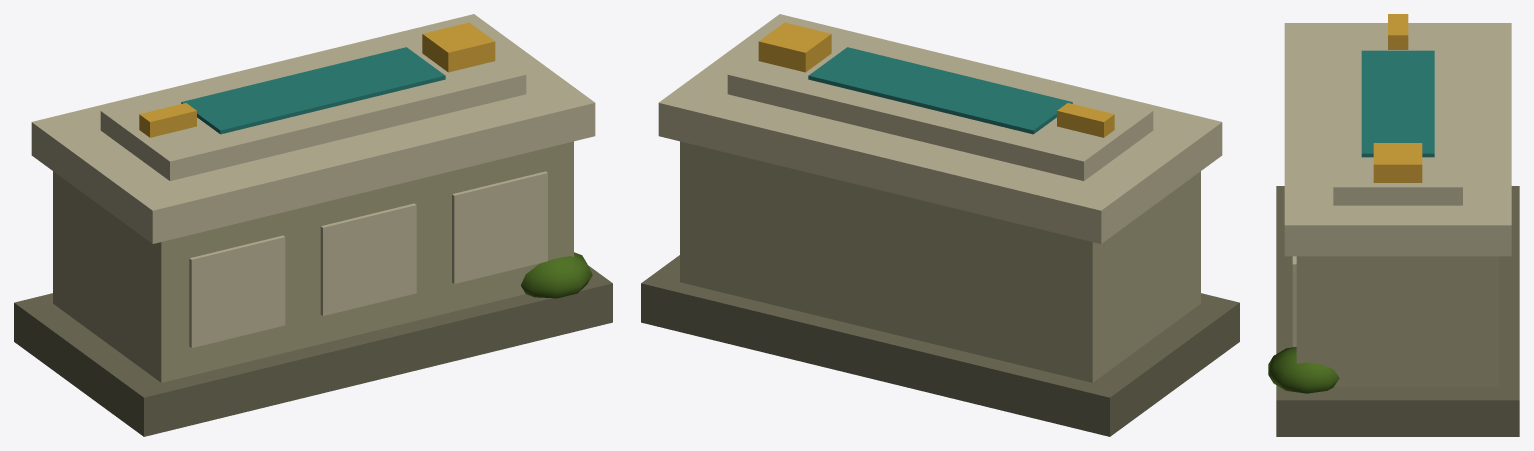
The model's file is jt_sarcophagus.glb.
3 views of the same model, side by side, from view 1: azimuth 30°, elevation 25°; view 2: azimuth 150°, elevation 25°; view 3: azimuth 270°, elevation 25° (orthographic). The views are drawn at different scales.
Visible parts, largest first — view 1: jt_sarcophagus; view 2: jt_sarcophagus; view 3: jt_sarcophagus.
Part boxes in pixels (x1,y1,x2,y2): jt_sarcophagus: (14, 14, 612, 436); jt_sarcophagus: (641, 14, 1239, 436); jt_sarcophagus: (1268, 14, 1519, 436).
Size of the model in its own units: 2.5 by 1.32 by 1.24.
